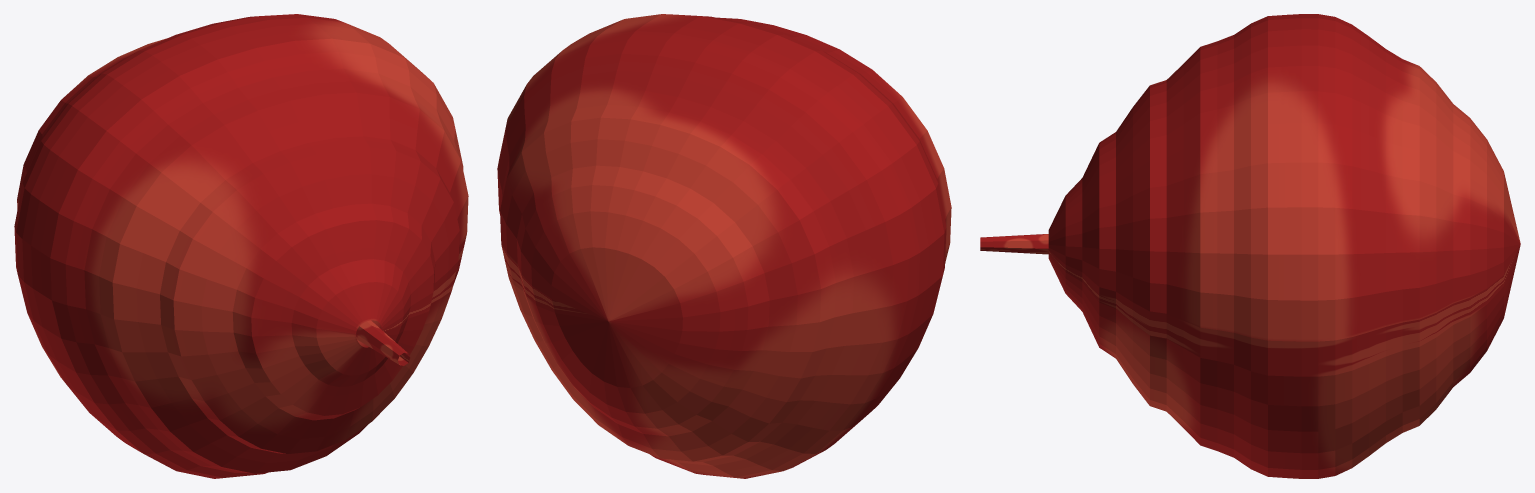
Rendered from apple_05_realistic.obj.
3 views of the same model, side by side, from view 1: azimuth 30°, elevation 25°; view 2: azimuth 150°, elevation 25°; view 3: azimuth 270°, elevation 25° (orthographic). The views are drawn at different scales.
Size of the model in its own units: 1.97 by 1.95 by 2.29.
1 material, 1 textured.
